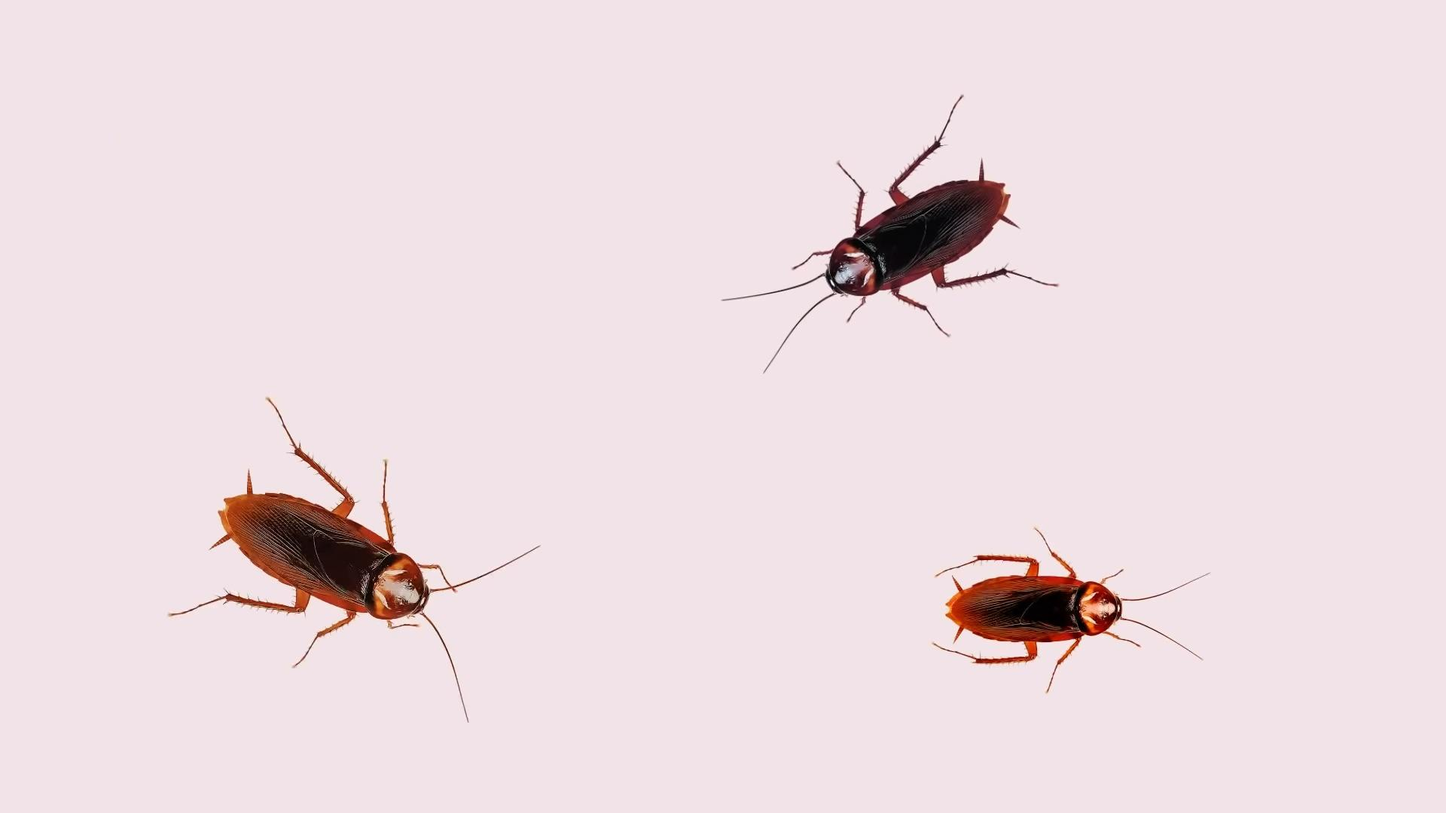cockroach: (159, 392, 544, 724), (713, 88, 1065, 381), (920, 523, 1215, 698)
